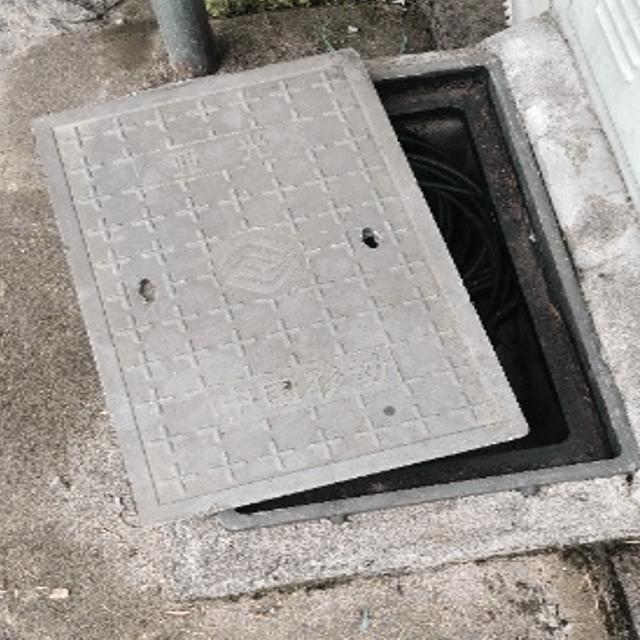uncovered: (31, 41, 640, 541)
